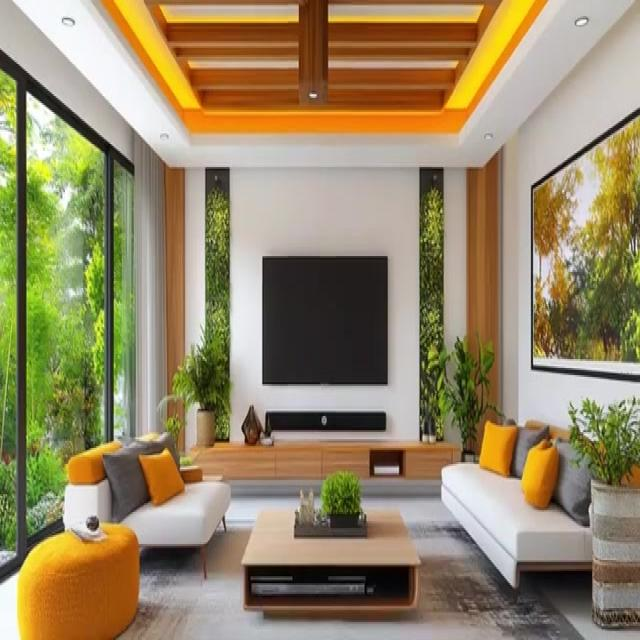obstacle: (439, 418, 591, 588), (62, 430, 231, 578), (241, 507, 421, 617)
